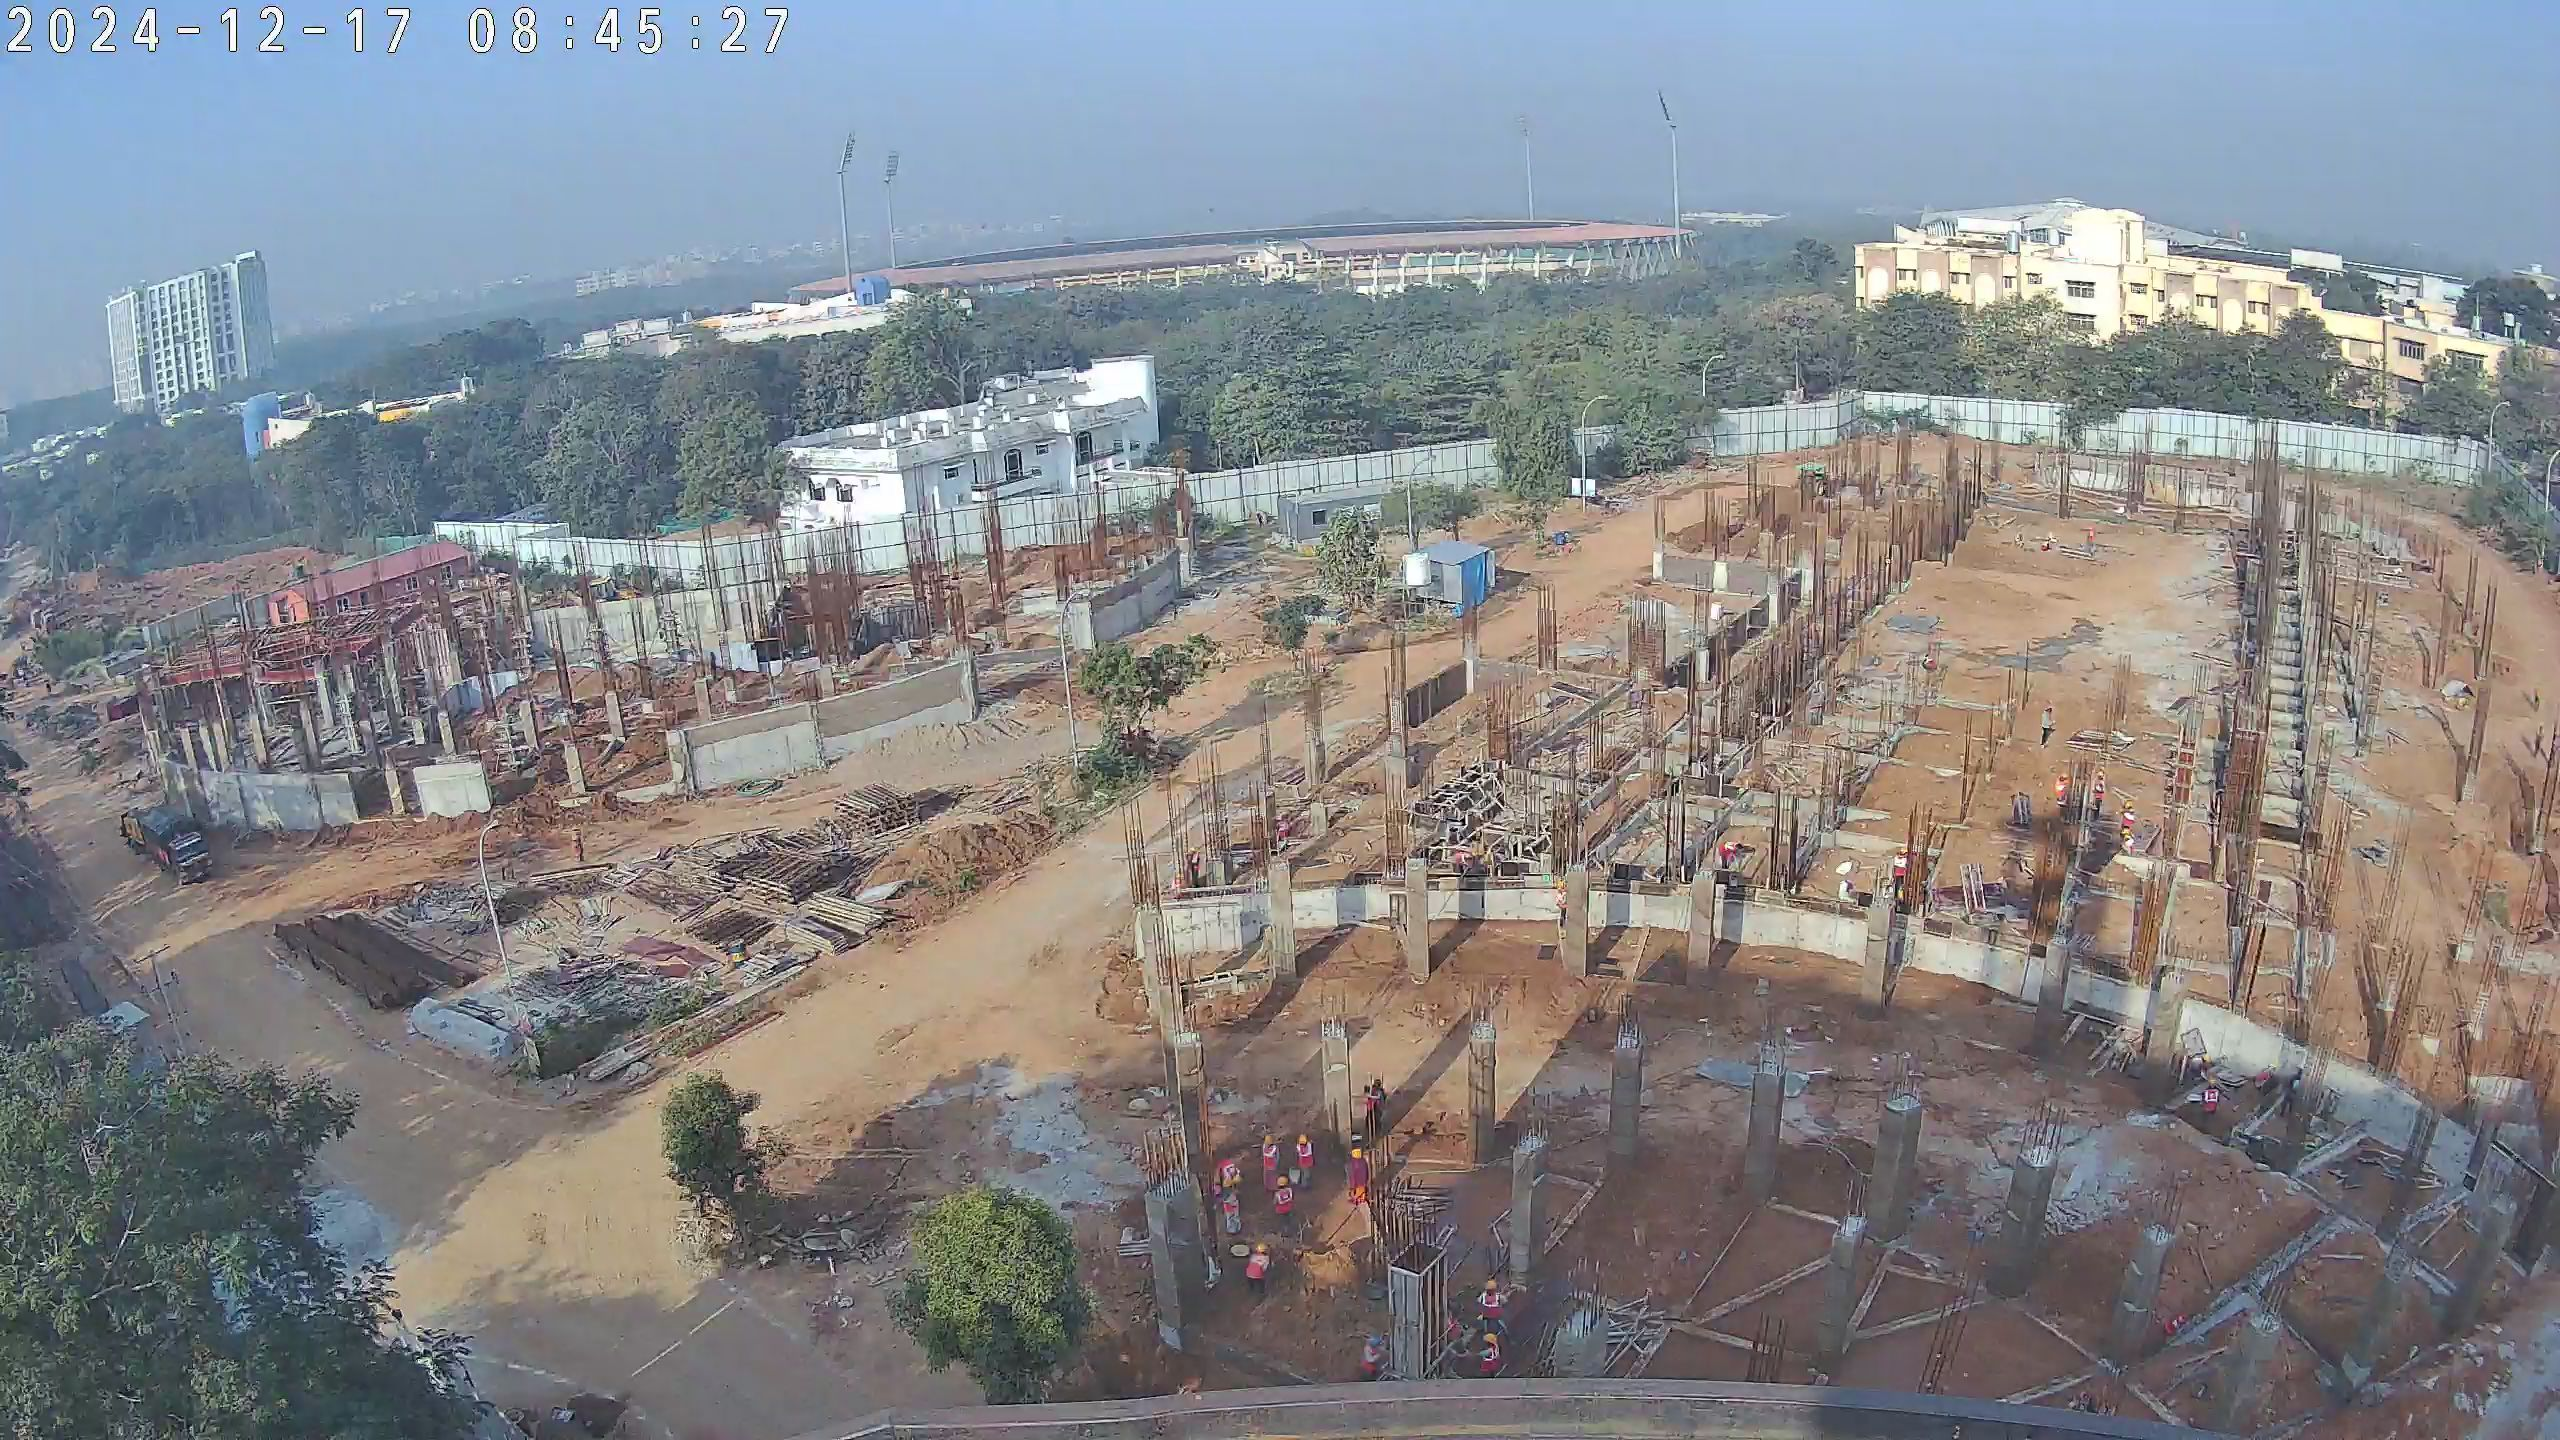bulldozer: (1787, 459, 1861, 503)
truck: (116, 802, 208, 887)
worker: (1212, 1160, 1246, 1236), (1359, 1073, 1393, 1144), (1239, 1241, 1274, 1306), (1477, 1281, 1509, 1344), (1350, 1325, 1387, 1377), (1255, 1131, 1283, 1194), (1468, 1341, 1514, 1379), (1291, 1125, 1318, 1187), (2199, 1079, 2225, 1139), (1345, 1143, 1368, 1208), (1273, 1174, 1298, 1232), (2035, 700, 2062, 749), (567, 817, 591, 868), (2050, 770, 2078, 813), (1714, 839, 1744, 879), (1551, 883, 1575, 933), (1181, 844, 1203, 897), (1887, 849, 1908, 899), (2117, 827, 2142, 867), (2091, 767, 2109, 822), (2249, 1062, 2278, 1094), (2117, 803, 2136, 846), (1453, 848, 1479, 879), (1272, 813, 1299, 840), (2531, 718, 2547, 758), (1919, 652, 1944, 676), (2080, 523, 2098, 554), (2528, 688, 2541, 715), (2037, 535, 2054, 555)
